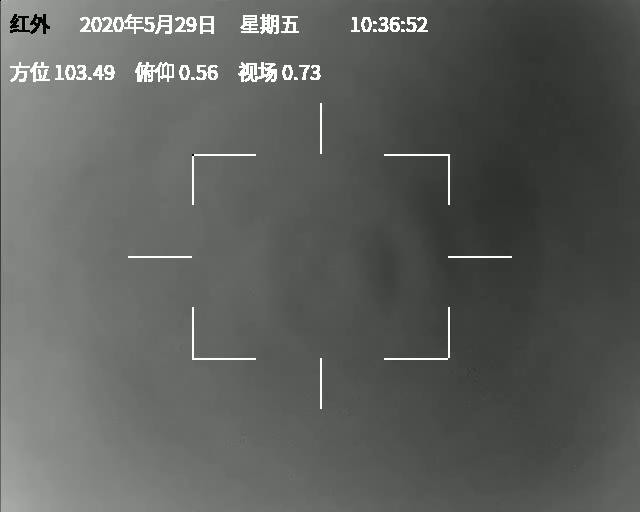uav: (384, 255, 391, 261)
